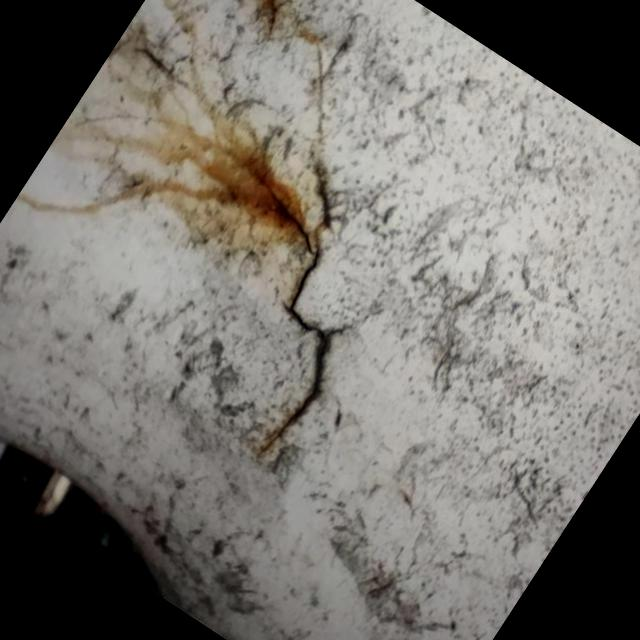defect: (250, 173, 359, 459)
